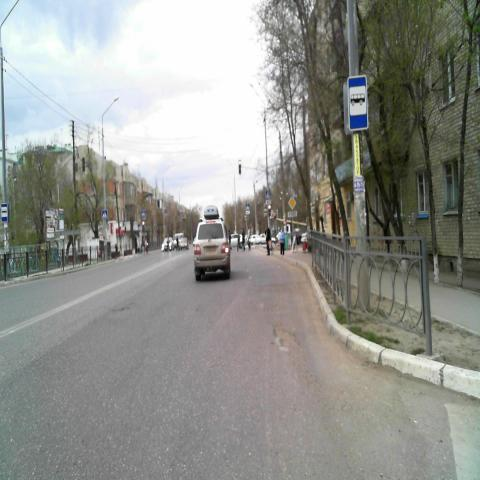2_1: (288, 196, 296, 210)
5_16: (348, 75, 368, 132), (1, 203, 8, 225)
5_19_1: (102, 210, 107, 220)
